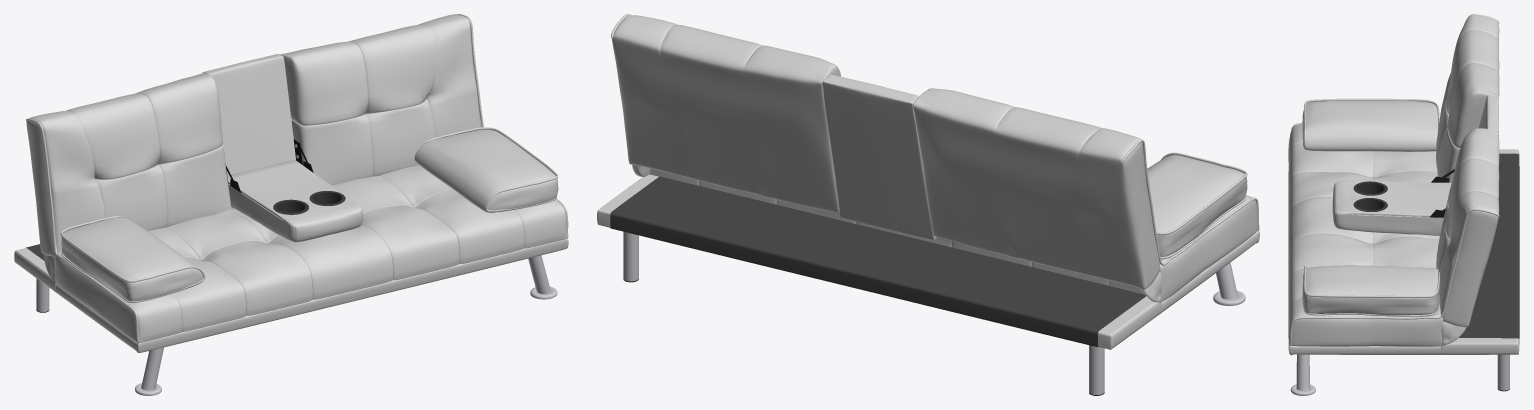
The model's file is 2seater.glb.
3 views of the same model, side by side, from view 1: azimuth 30°, elevation 25°; view 2: azimuth 150°, elevation 25°; view 3: azimuth 270°, elevation 25° (orthographic). The views are drawn at different scales.
Visible parts, largest first — view 1: ASSET; view 2: ASSET; view 3: ASSET.
Boxes of the visible parts, box(x1,y1,x2,y2) form: ASSET: box(14, 14, 568, 395); ASSET: box(597, 14, 1259, 395); ASSET: box(1288, 14, 1519, 395).
Bounding box in the file's own units: 1.83 × 0.8288 × 0.9034.
1 material, 1 textured.
